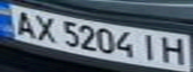0: (93, 26, 118, 56)
2: (75, 23, 100, 53)
4: (115, 28, 139, 60)
5: (57, 18, 81, 48)
A: (6, 8, 39, 38)
H: (157, 34, 190, 65)
I: (136, 32, 163, 62)
X: (30, 12, 60, 44)
